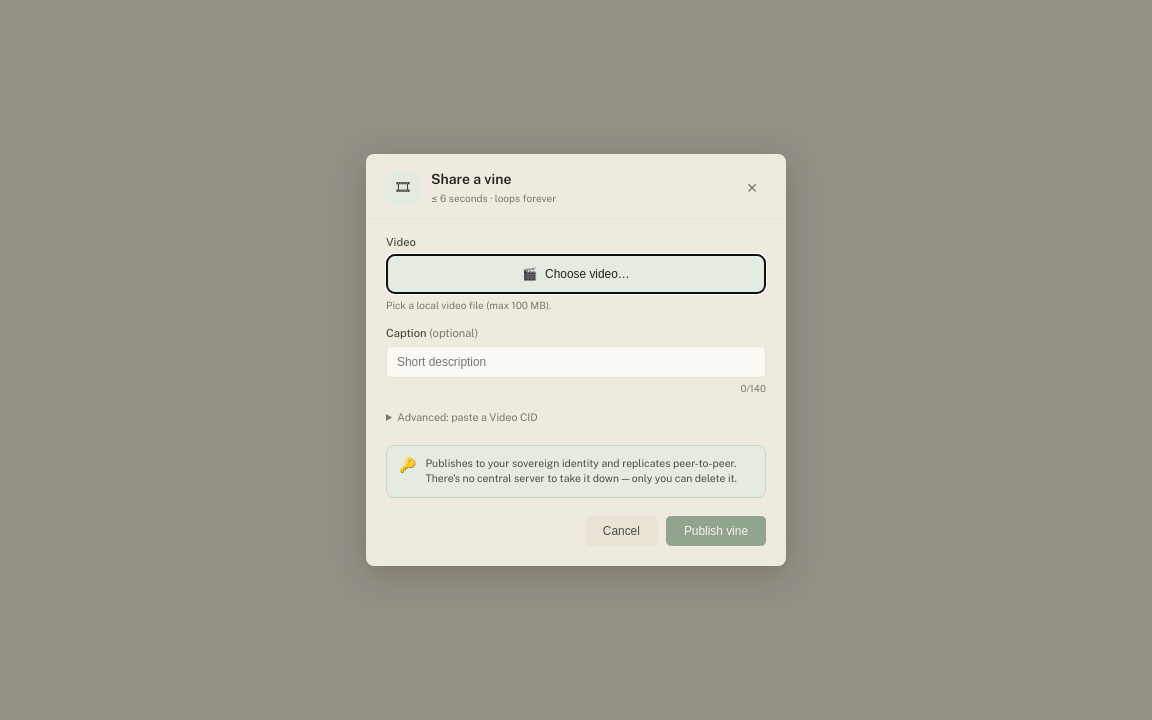
VinePublishDialog (ZEB-559) › manually editing the Advanced CID clears the picked filename (no desync)
Click the button with test id "choose-video" at (576, 274), box [386, 254, 766, 294]
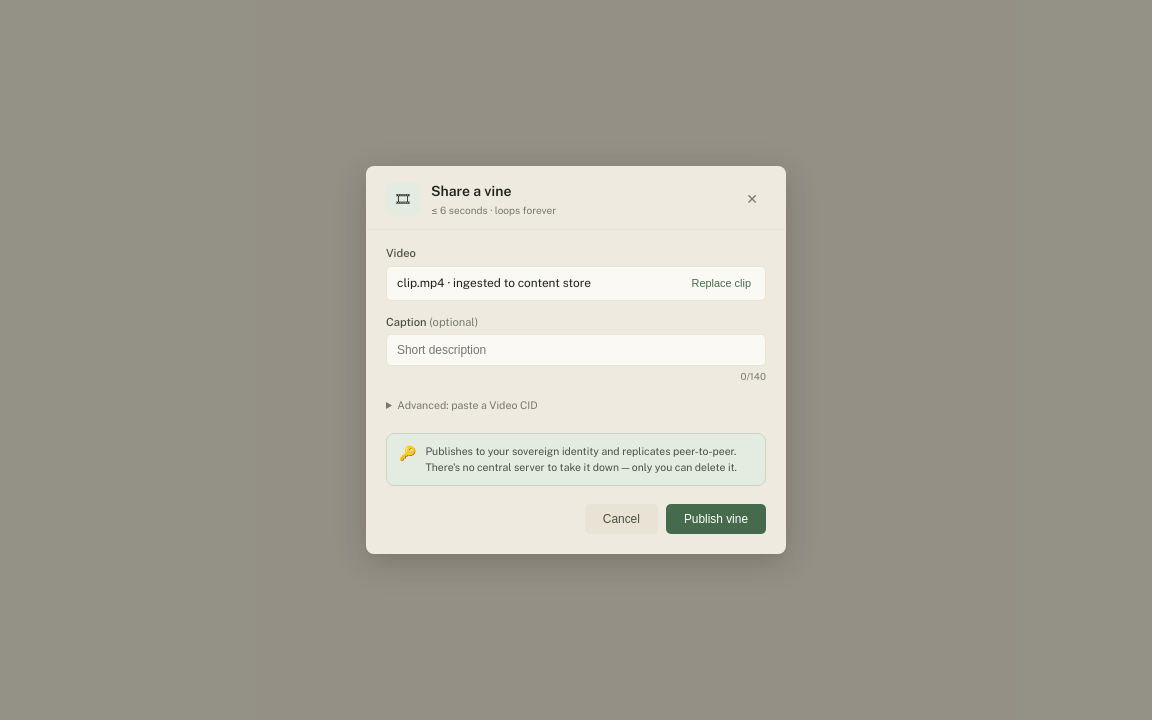
Result: the element with test id "picked-file" is shown at [386, 266, 766, 301]
Replace the text in the field labelled "Video CID" with "manualcid" at (468, 405), box [397, 399, 538, 411]
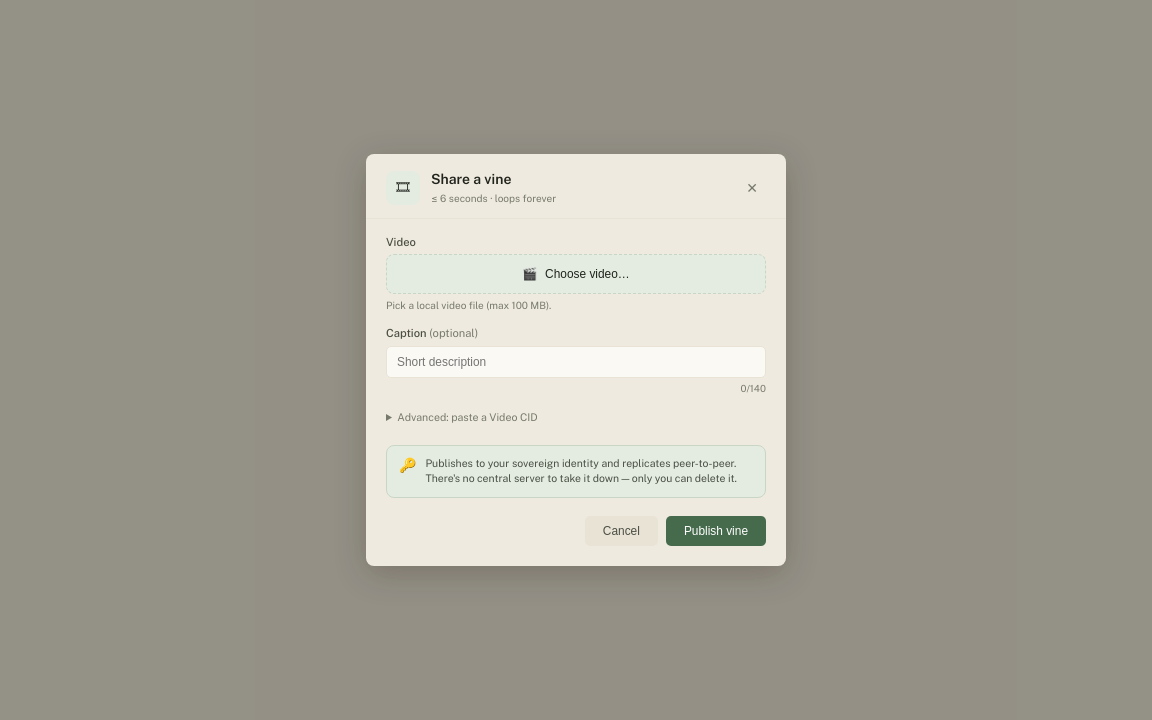
Result: the element with test id "picked-file" is gone
Result: the button with test id "choose-video" is shown at [386, 254, 766, 294]
